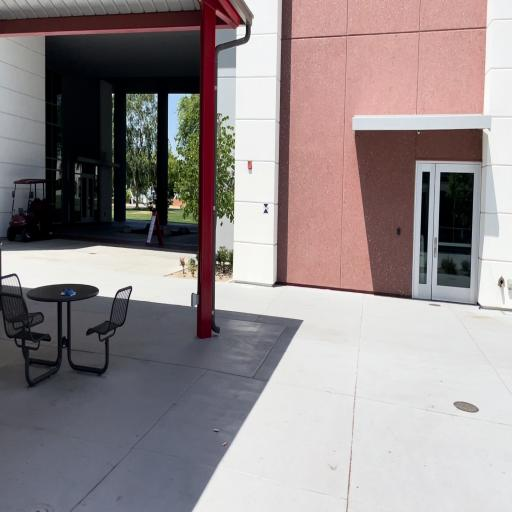target9: (264, 204, 269, 214)
